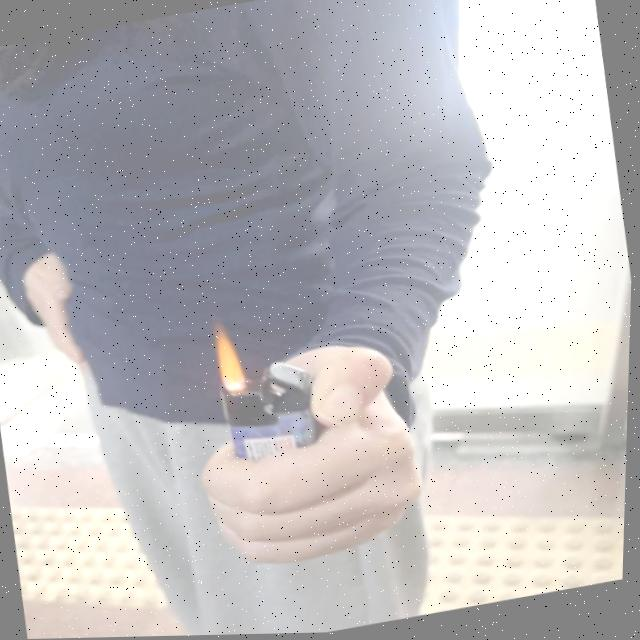Fire: (214, 320, 257, 397)
